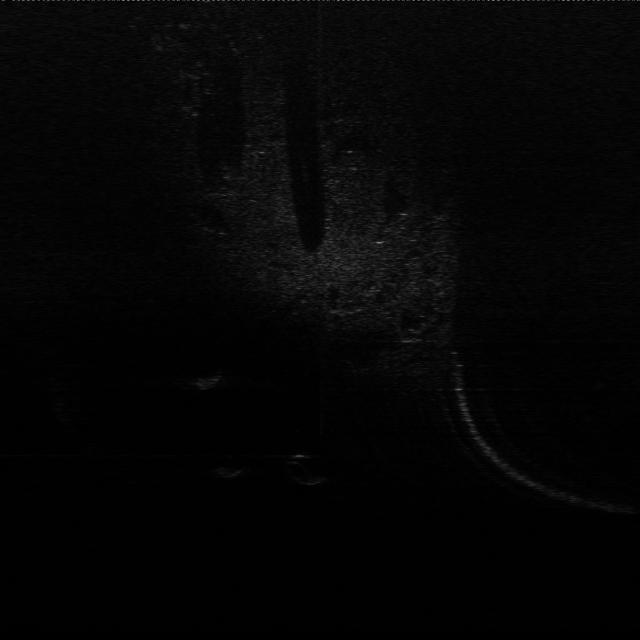cube: (214, 458, 247, 479)
square cage: (187, 367, 223, 392)
tyre: (282, 446, 332, 486)
